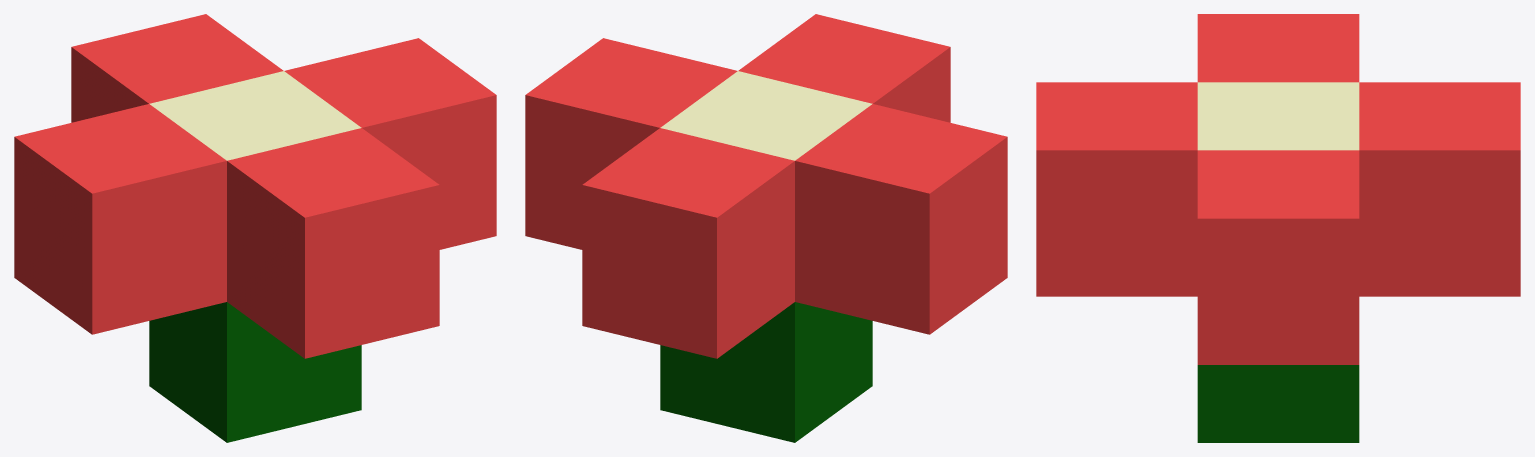
File: flower2.dae
3 views of the same model, side by side, from view 1: azimuth 30°, elevation 25°; view 2: azimuth 150°, elevation 25°; view 3: azimuth 270°, elevation 25° (orthographic). The views are drawn at different scales.
Visible parts, largest first — view 1: flower2; view 2: flower2; view 3: flower2.
Boxes of the visible parts, bbox=[...] form: flower2: bbox=[14, 14, 496, 442]; flower2: bbox=[525, 14, 1007, 442]; flower2: bbox=[1036, 14, 1520, 442].
Bounding box in the file's own units: 0.3 × 0.3 × 0.2.
Materials: 1 (1 with a texture image).
